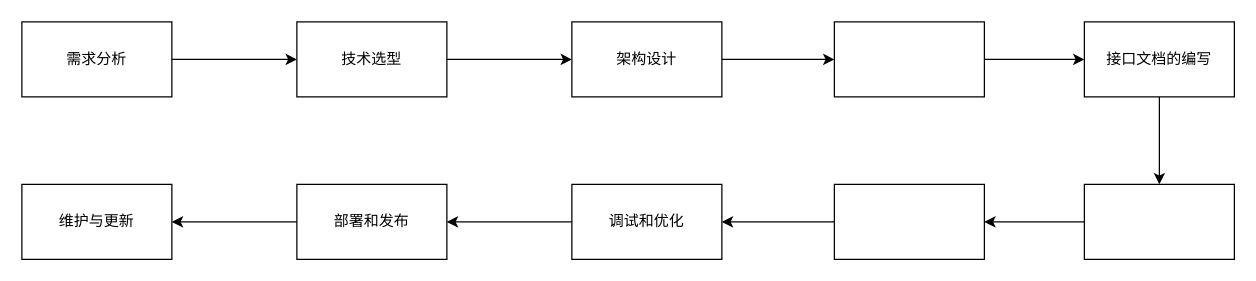
The diagram is 1256 pixels wide and 281 high, and some of its shapes have lost their labels. Each missing label, with the centre of its shape:
"单元测试" belongs at pixel 908 221.
"环境搭建" belongs at pixel 908 59.
"编码实现" belongs at pixel 1158 221.
